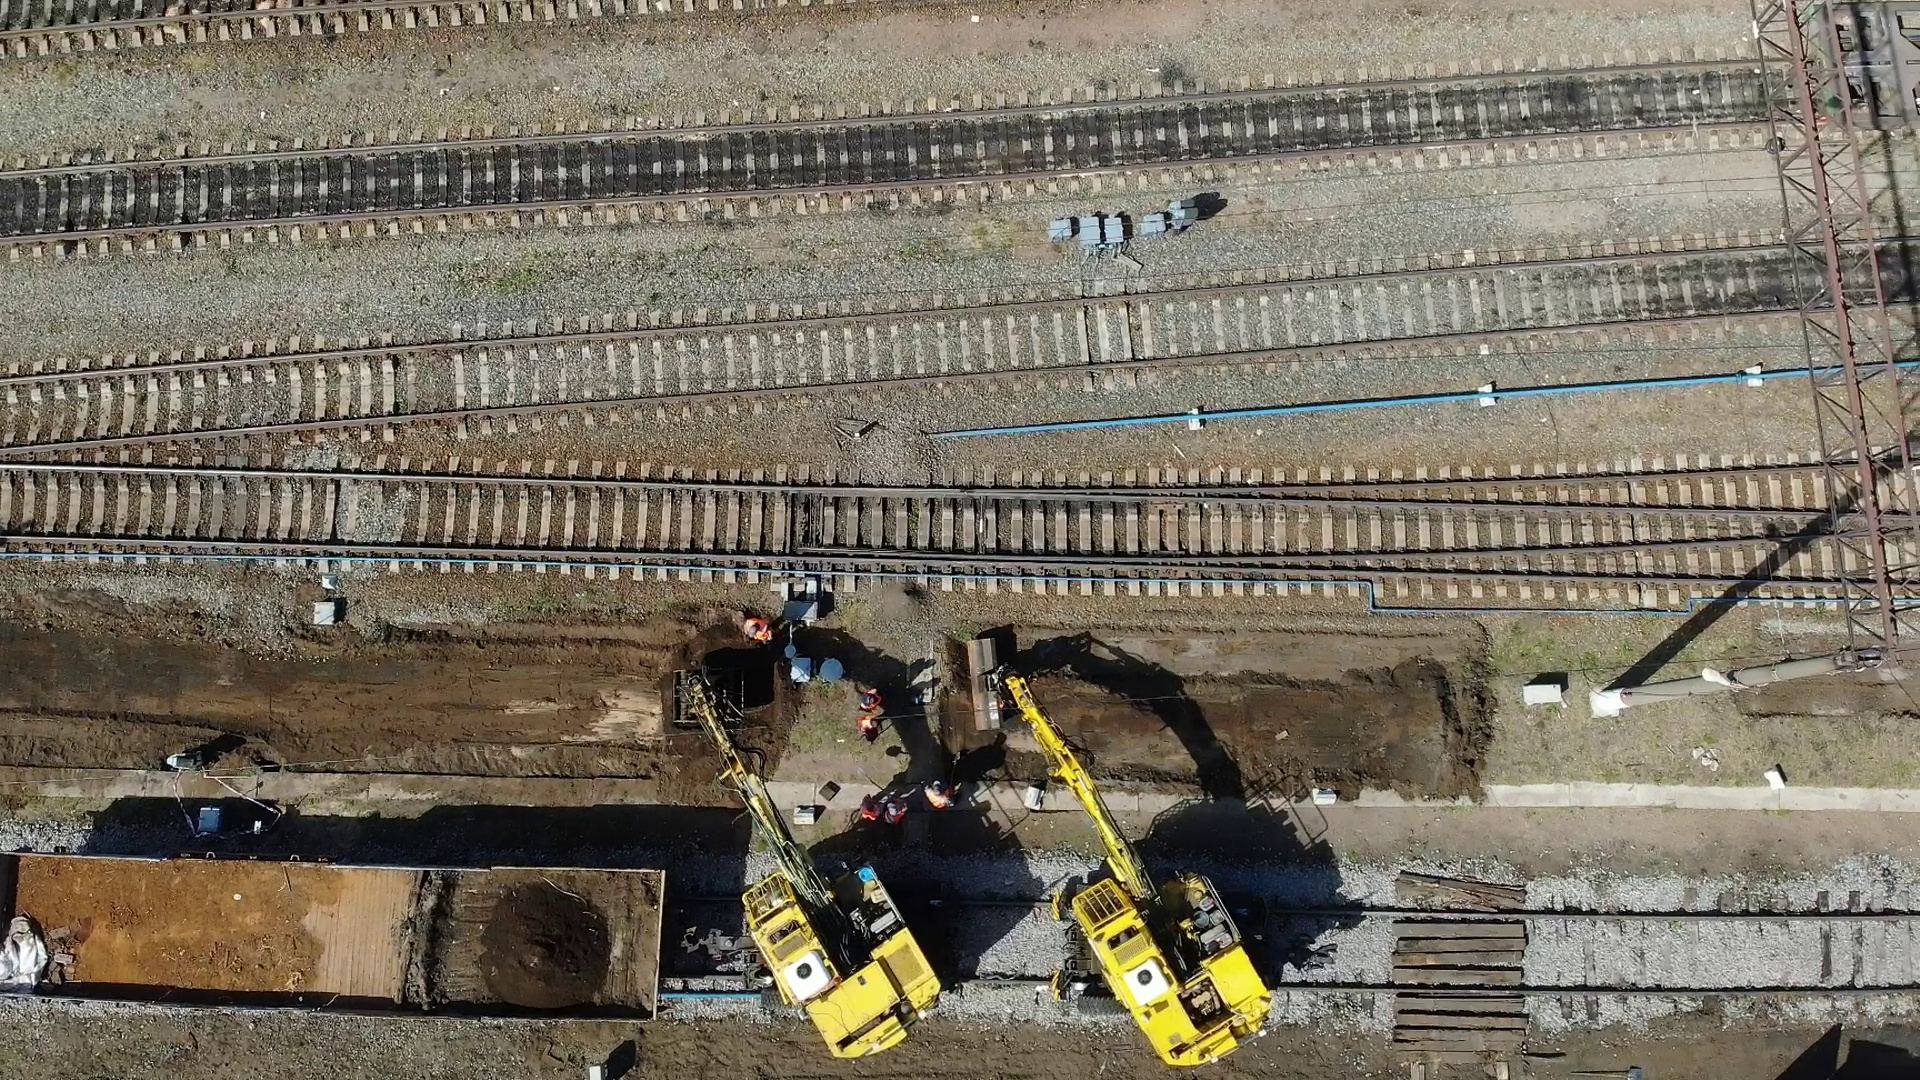kjtv: (1067, 770, 1273, 1068), (741, 802, 939, 1055)
